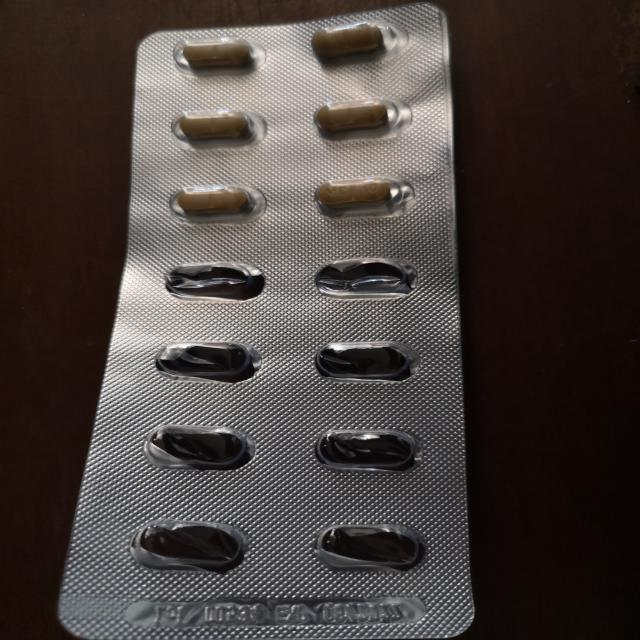Empty: (124, 515, 253, 575), (310, 518, 435, 576), (306, 420, 429, 478), (138, 418, 257, 476), (310, 336, 429, 388), (148, 336, 270, 386), (308, 254, 422, 306), (157, 254, 273, 304)
Pill: (307, 92, 418, 144), (160, 179, 270, 227), (165, 105, 273, 153), (308, 174, 413, 223), (160, 32, 268, 79), (308, 22, 407, 69)
